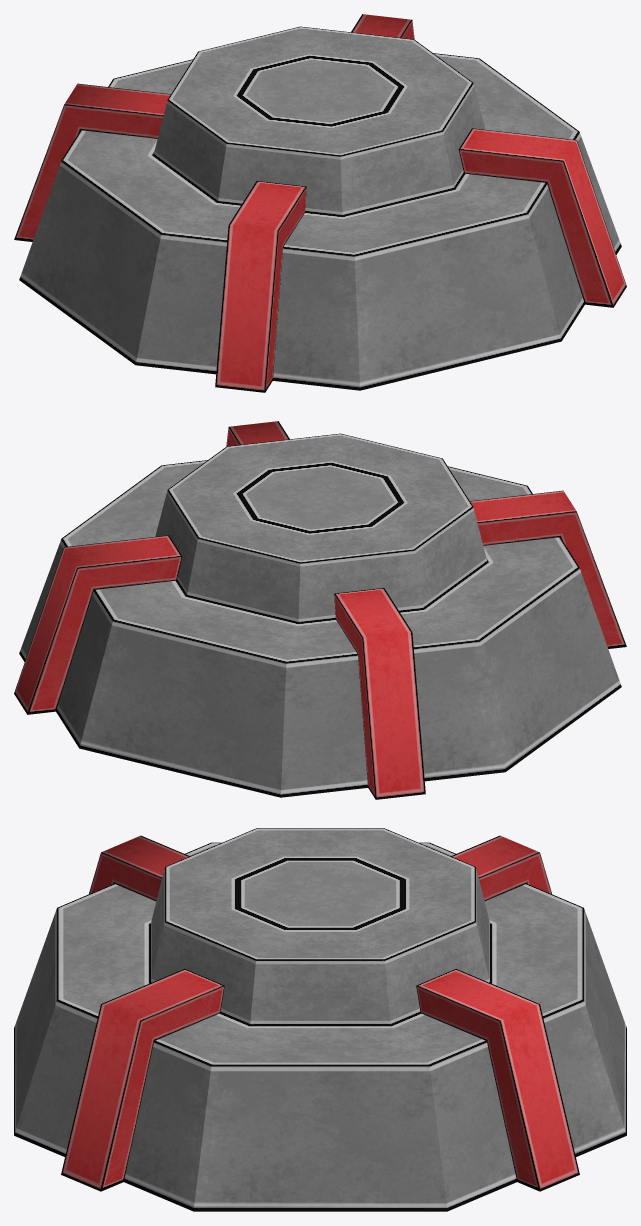
File: Flamethrower Turret_Base.fbx
3 views of the same model, one above another, from view 1: azimuth 30°, elevation 25°; view 2: azimuth 150°, elevation 25°; view 3: azimuth 270°, elevation 25° (orthographic). The views are drawn at different scales.
Visible parts, largest first — view 1: polySurface84; view 2: polySurface84; view 3: polySurface84.
Part boxes in pixels (x1,y1,x2,y2): polySurface84: (14, 14, 626, 392); polySurface84: (14, 421, 626, 799); polySurface84: (14, 828, 626, 1211).
Bounding box in the file's own units: 78.05 × 26.4 × 78.05.
1 material, 1 textured.
